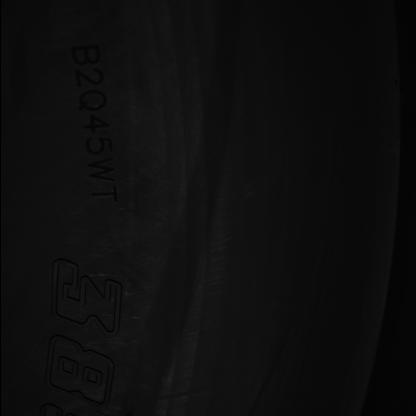ocr: (66, 43, 121, 204)
